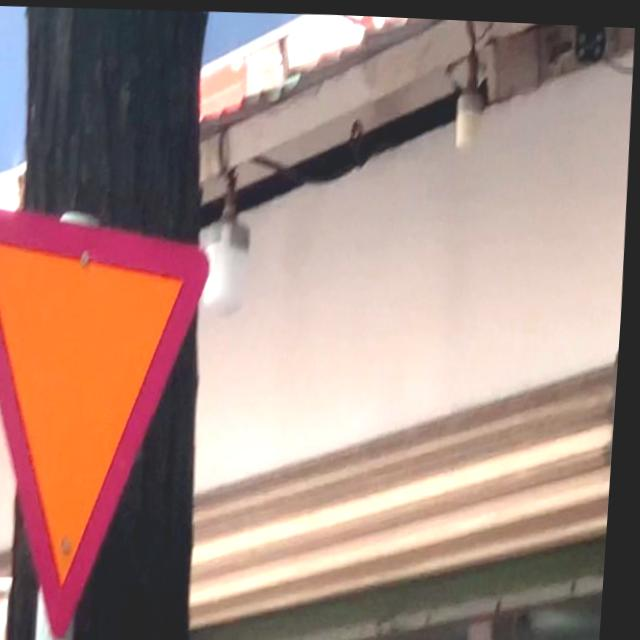Giao nhau voi duong uu tien: (0, 197, 226, 640)
